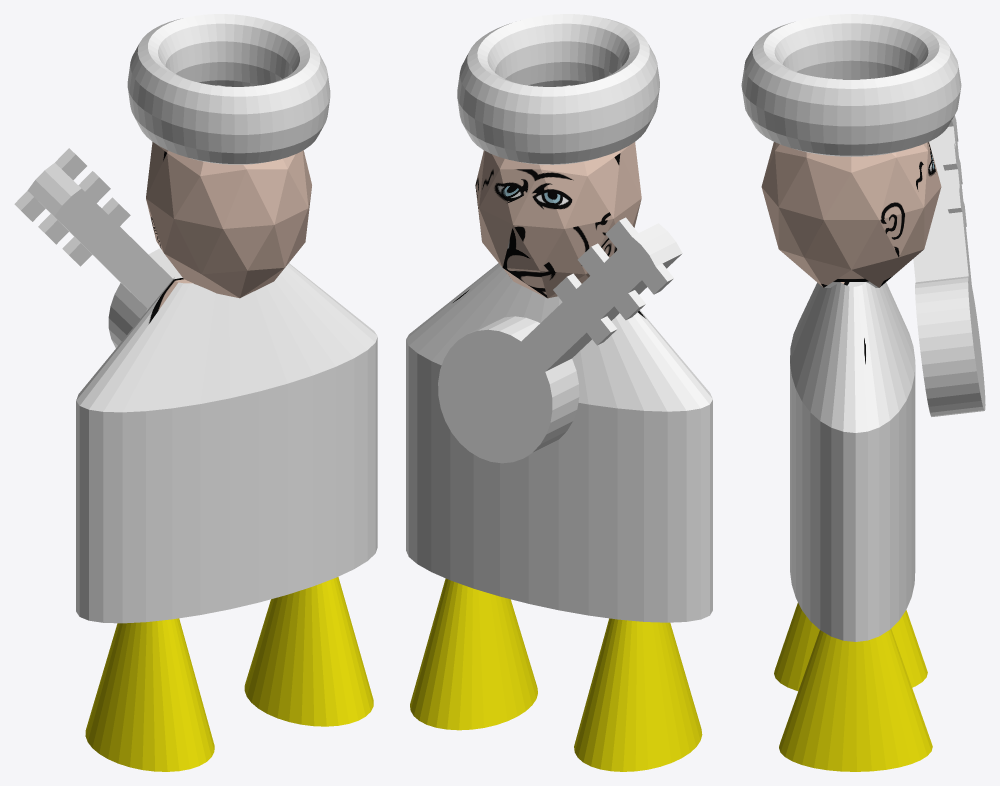
Rendered from characterModel.obj.
3 views of the same model, side by side, from view 1: azimuth 30°, elevation 25°; view 2: azimuth 150°, elevation 25°; view 3: azimuth 270°, elevation 25° (orthographic).
Parts seen in each view (by area): view 1: Cylinder; view 2: Cylinder; view 3: Cylinder.
Part boxes in pixels (<box>): Cylinder: <box>14,14,377,771</box>; Cylinder: <box>406,14,712,771</box>; Cylinder: <box>741,14,985,771</box>.
Size of the model in its own units: 2.08 by 4.31 by 1.43.
